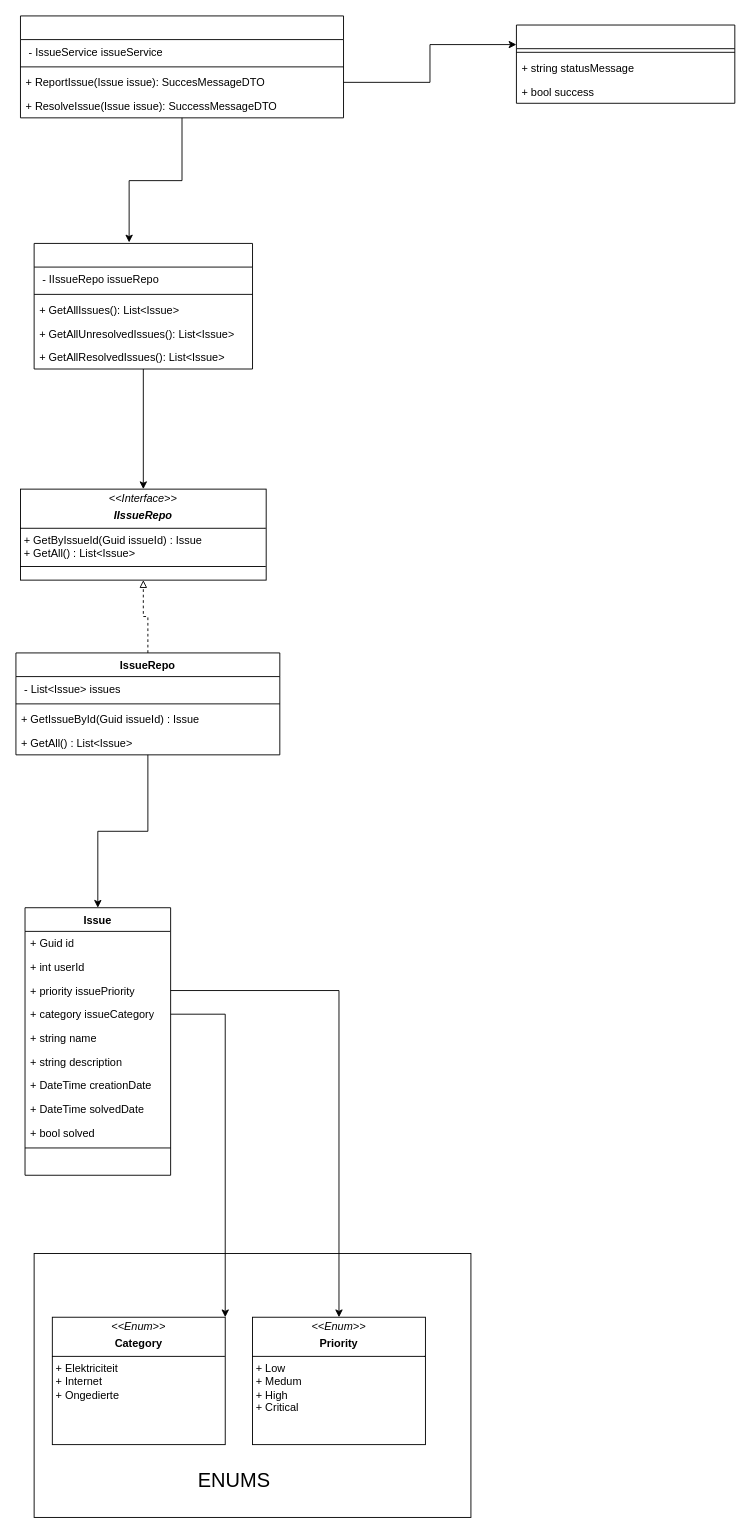
The diagram is 751 pixels wide and 1533 high, and some of its shapes have lost their labels. Here are the shapes that lost their labels. From the top down, the box of each, then its label:
(20, 15, 344, 118): IssueController
(516, 24, 735, 103): SuccessMessageDTO
(33, 243, 253, 369): IssueService
